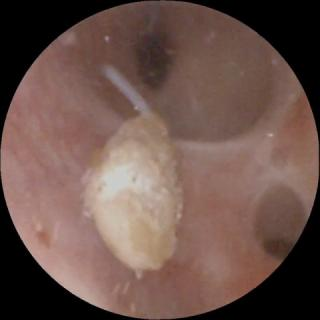stone: (83, 115, 179, 279)
tissue: (6, 6, 313, 316)
